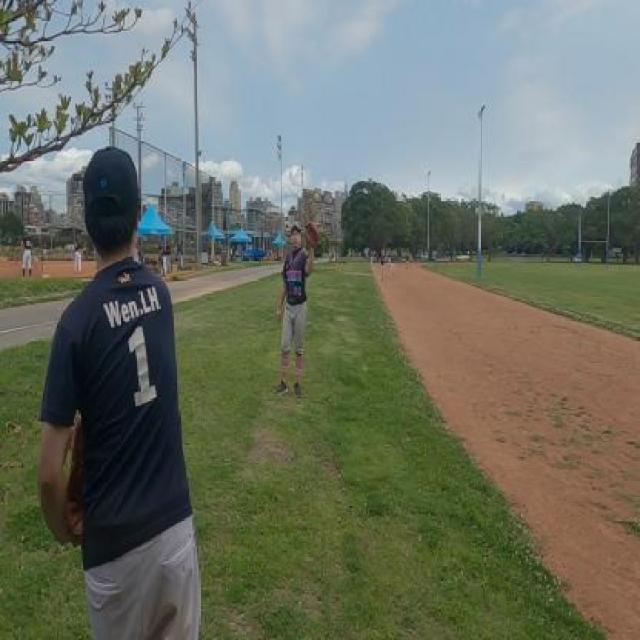baseball: (314, 193, 320, 204)
